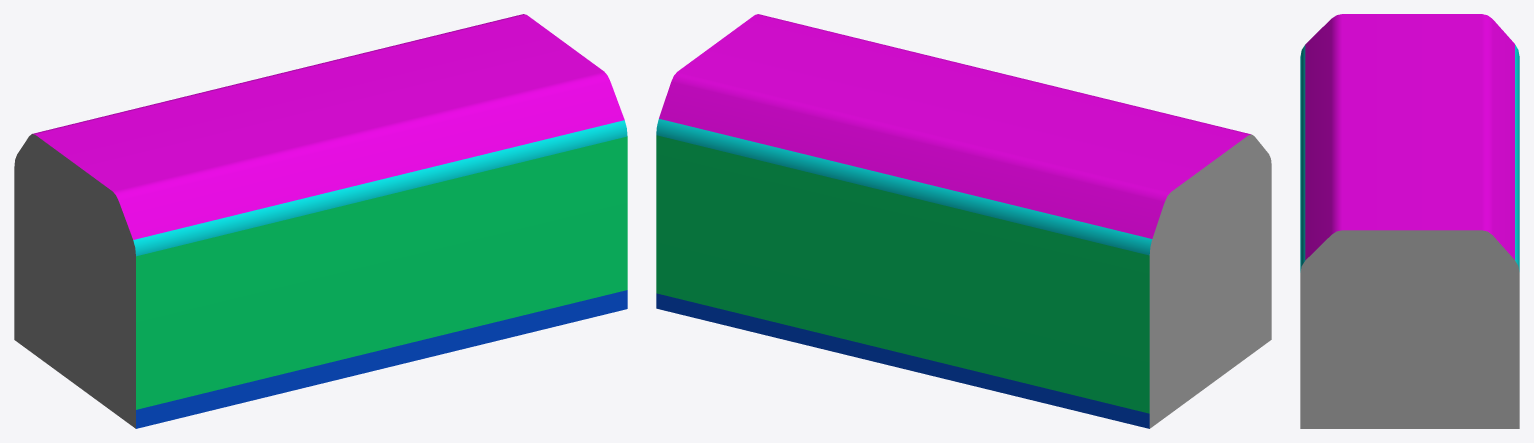
The model's file is T_Junction_Straight2.fbx.
3 views of the same model, side by side, from view 1: azimuth 30°, elevation 25°; view 2: azimuth 150°, elevation 25°; view 3: azimuth 270°, elevation 25° (orthographic). The views are drawn at different scales.
Visible parts, largest first — view 1: pCube30; view 2: pCube30; view 3: pCube30.
Boxes of the visible parts, x1,y1,x2,y2 form: pCube30: (14, 14, 627, 428); pCube30: (656, 14, 1271, 428); pCube30: (1300, 14, 1519, 428).
Size of the model in its own units: 210 by 90 by 90.
